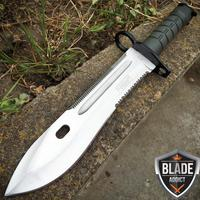knife: (3, 7, 191, 200)
